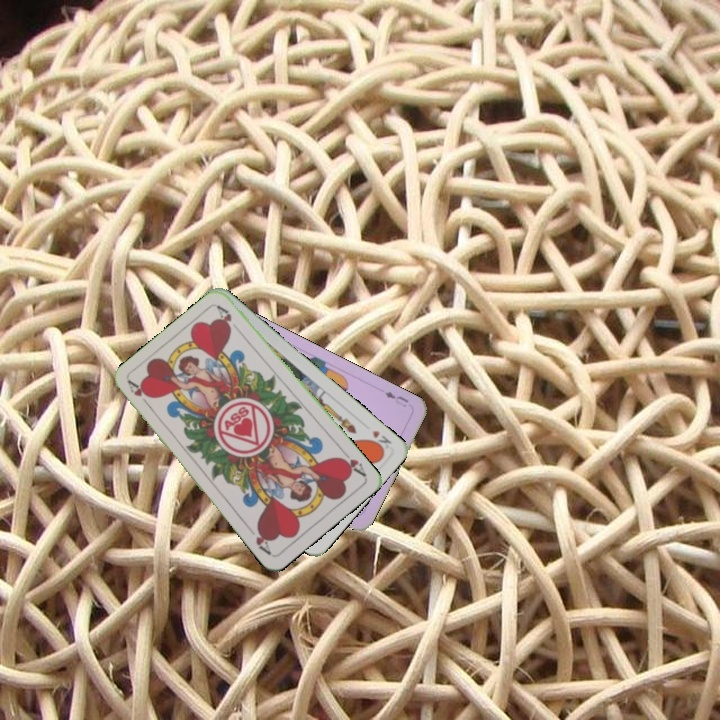EU: (380, 387, 411, 410)
HA: (336, 446, 369, 479), (124, 377, 155, 412)
HK: (366, 426, 394, 454)
